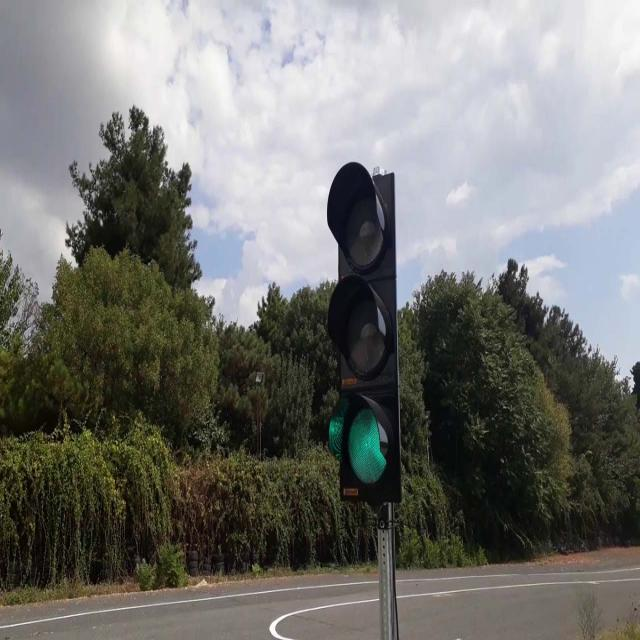yesil: (329, 163, 402, 500)
